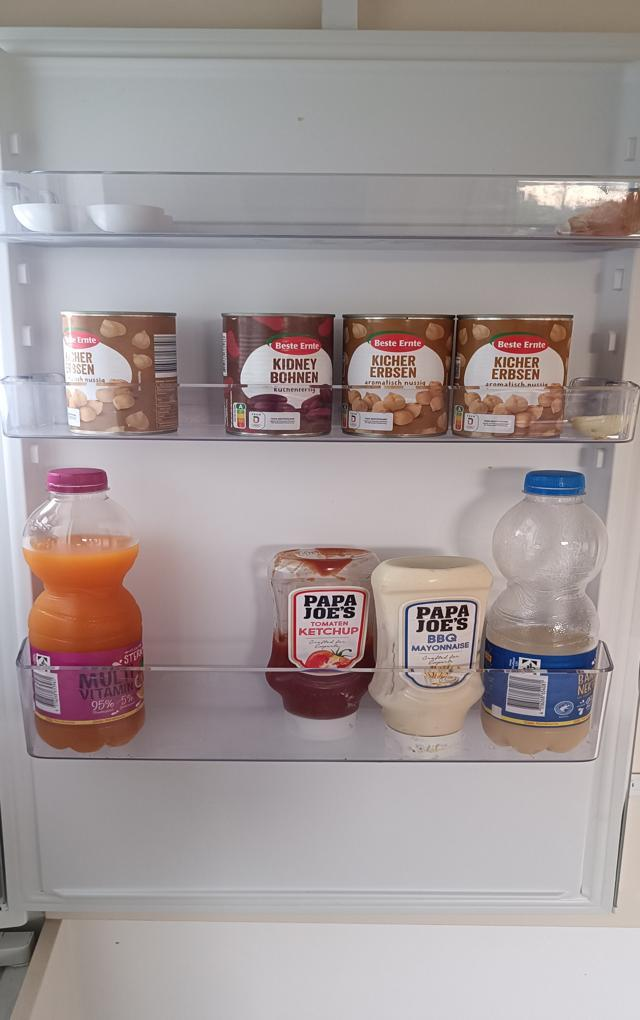bananajuice: (488, 469, 601, 753)
chickpeas: (61, 315, 180, 437), (457, 316, 573, 438), (343, 312, 451, 440)
kidneybeans: (221, 311, 336, 438)
mayoniasie: (369, 559, 489, 761)
orangejuice: (20, 467, 149, 756)
tomatoketchup: (261, 544, 377, 739)
